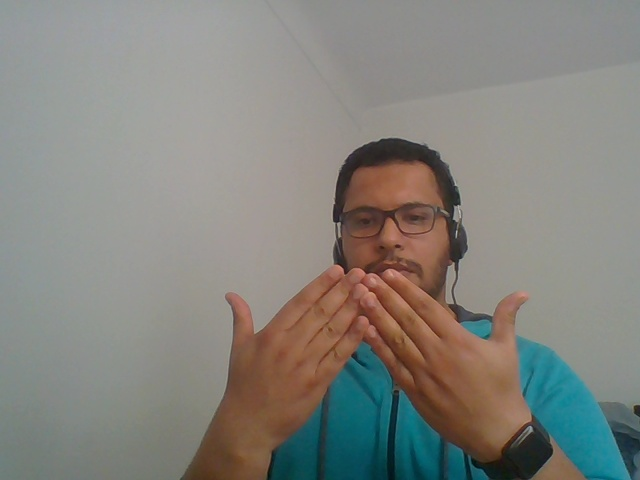thanks: (162, 234, 584, 480)
